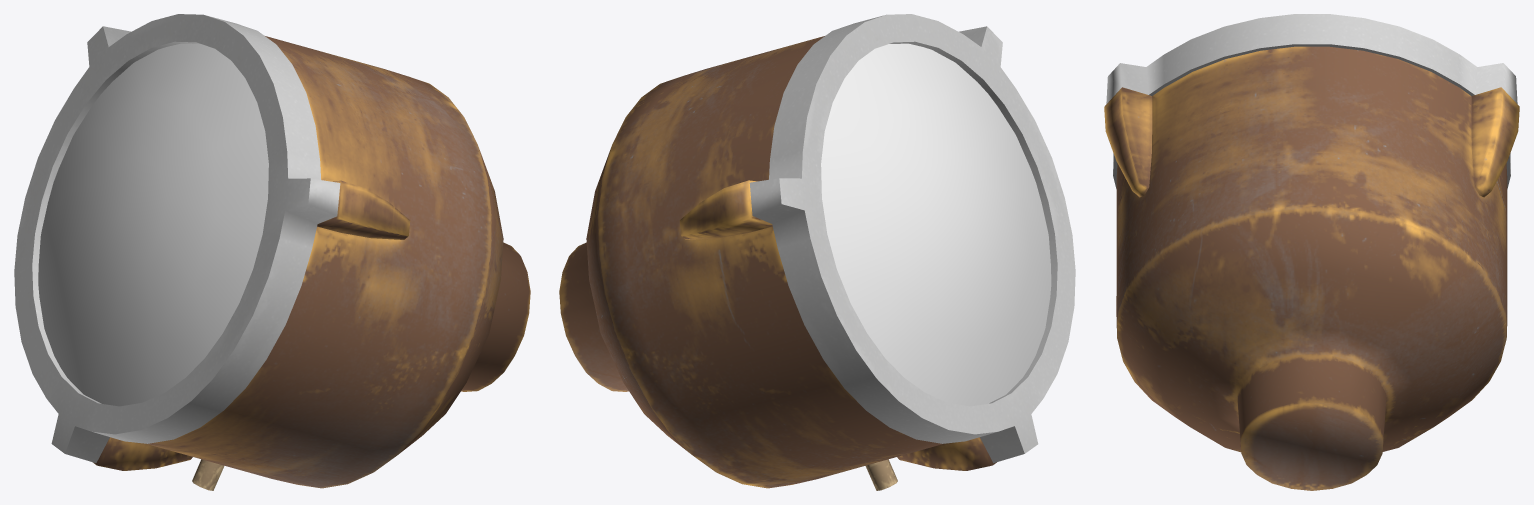
File: luminaria.obj
3 views of the same model, side by side, from view 1: azimuth 30°, elevation 25°; view 2: azimuth 150°, elevation 25°; view 3: azimuth 270°, elevation 25° (orthographic). The views are drawn at different scales.
Parts seen in each view (by area): view 1: barrel_low, glass_low, frame_low, barrel_provodBind_low; view 2: barrel_low, glass_low, frame_low, barrel_provodBind_low; view 3: barrel_low, frame_low.
Part boxes in pixels (<box>): barrel_low: <box>93,36,530,488</box>; glass_low: <box>38,43,268,406</box>; frame_low: <box>14,14,340,462</box>; barrel_provodBind_low: <box>192,459,224,490</box>; barrel_low: <box>559,36,996,488</box>; glass_low: <box>821,43,1051,406</box>; frame_low: <box>749,14,1075,463</box>; barrel_provodBind_low: <box>865,459,897,490</box>; barrel_low: <box>1104,46,1519,490</box>; frame_low: <box>1106,14,1517,188</box>.
Bounding box in the file's own units: 0.8087 × 0.7746 × 0.6959.
